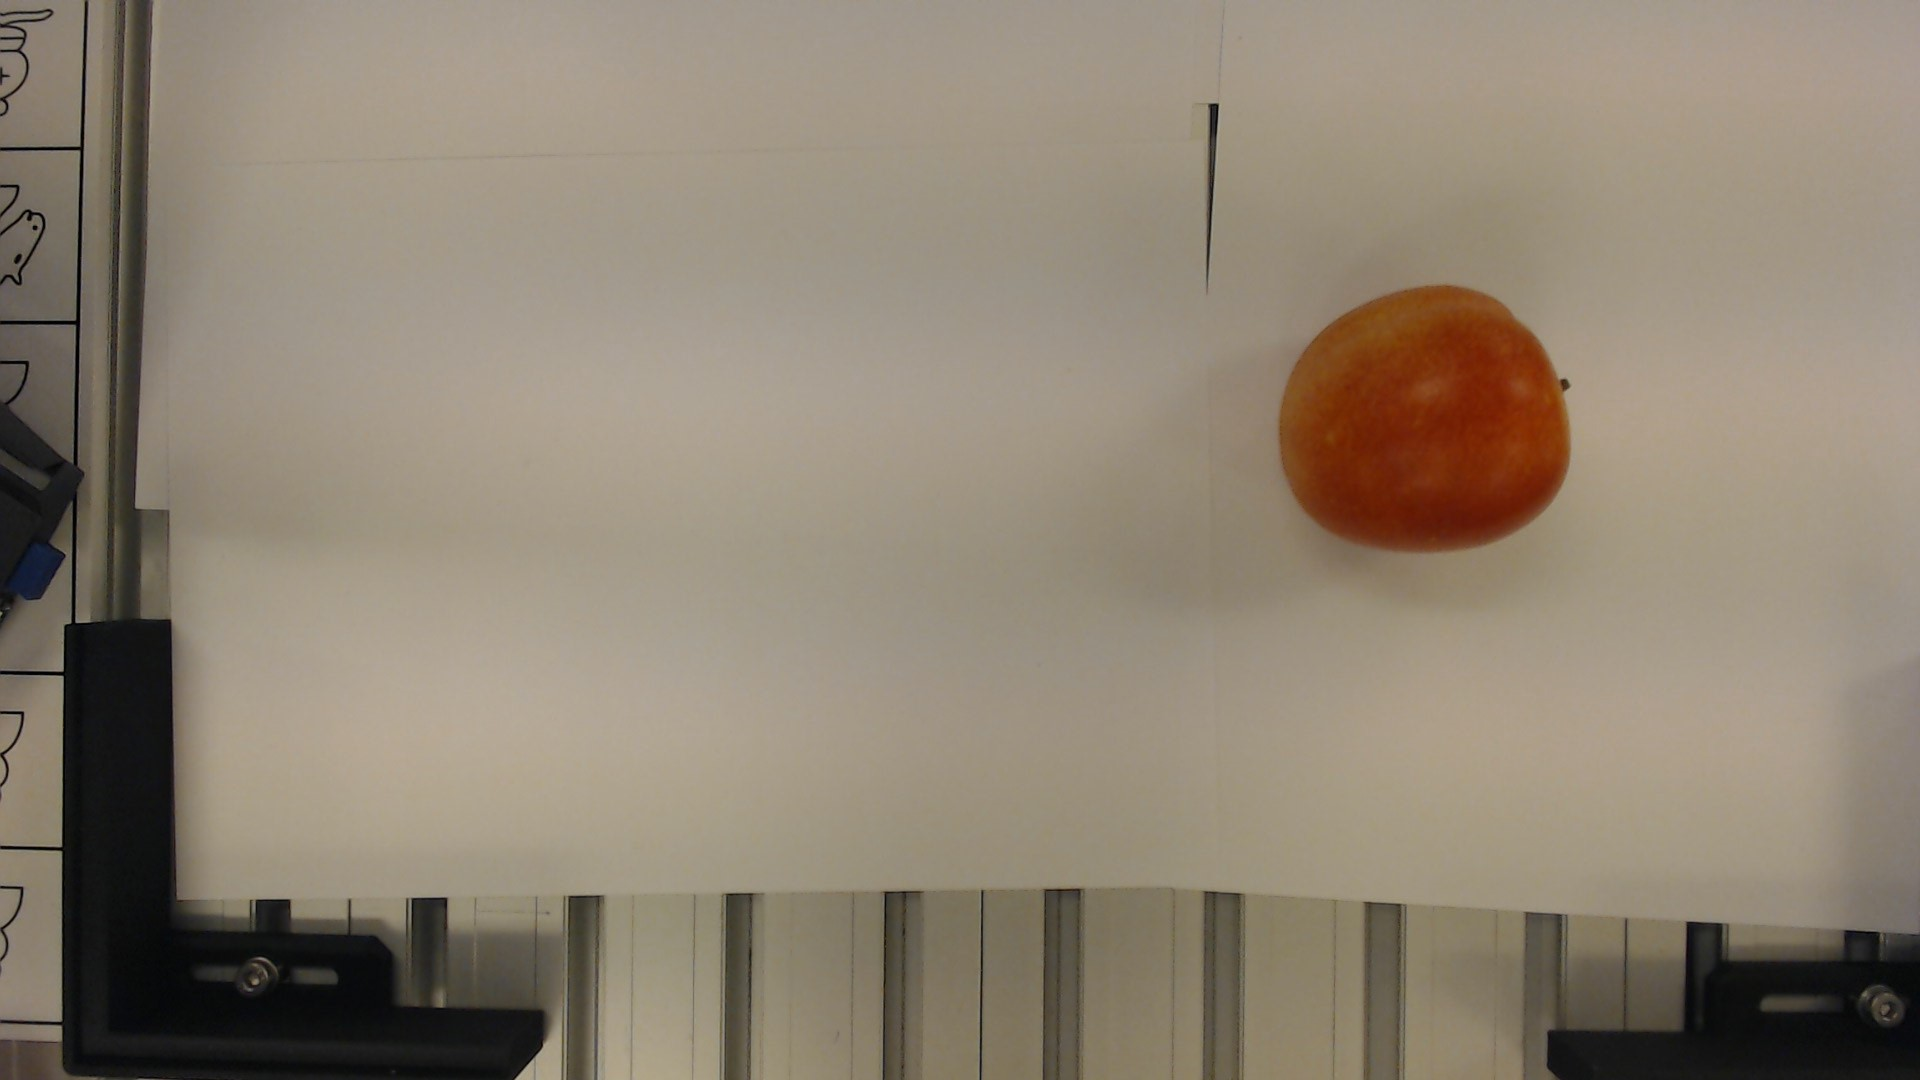Peach: (1276, 284, 1582, 562)
